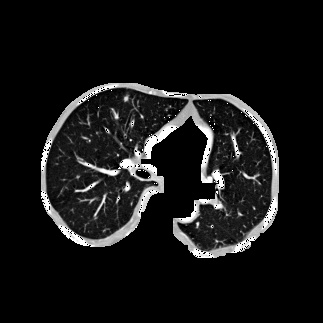PN: (123, 95, 129, 101)
